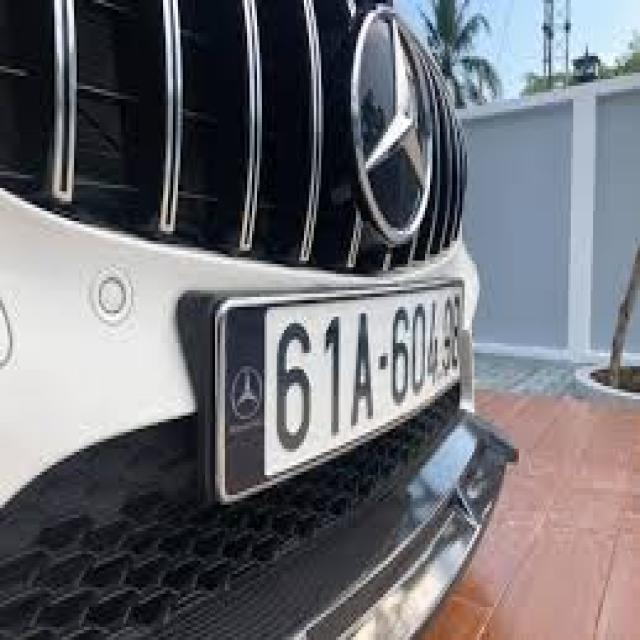bien_so: (205, 265, 476, 521)
